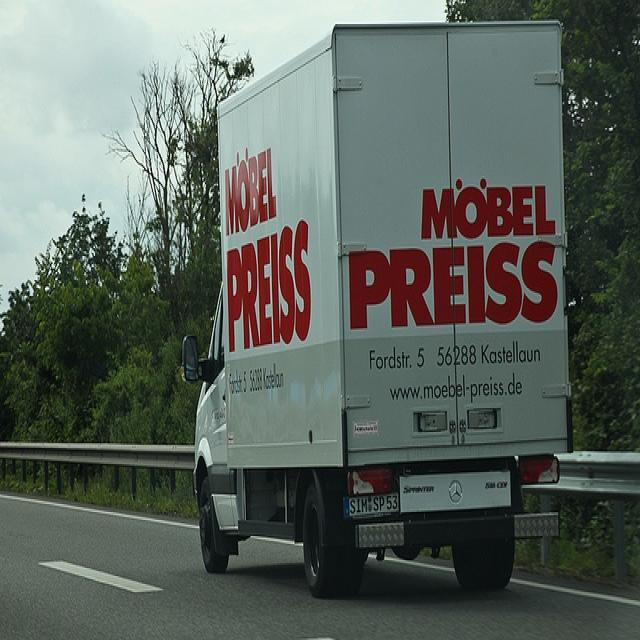truck: (179, 18, 571, 596)
